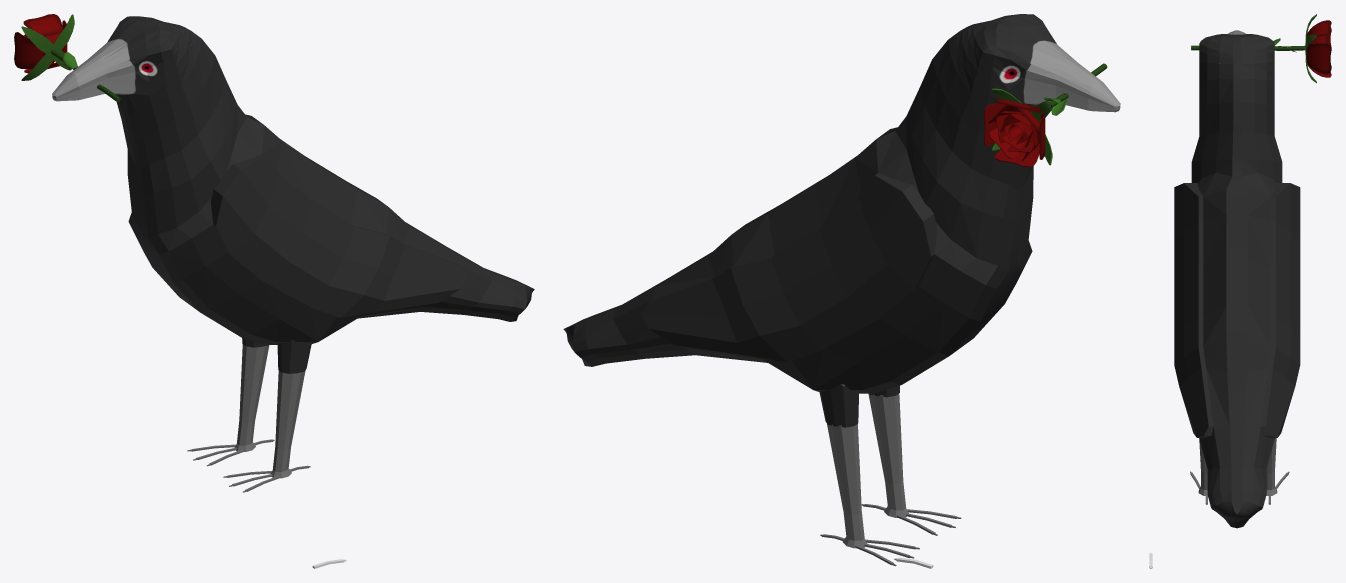
Rendered from crowvariant1.fbx.
The picture shows the model from 3 angles, left to right: view 1: azimuth 30°, elevation 25°; view 2: azimuth 150°, elevation 25°; view 3: azimuth 270°, elevation 25°; orthographic projection. The views are drawn at different scales.
Visible parts, largest first — view 1: Plane020, Plane022, Plane021, Box080, Box107; view 2: Plane020, Plane022, Plane021, Box080; view 3: Plane020, Plane022, Box080, Plane021.
Part boxes in pixels (<box>): Plane020: <box>52,16,534,344</box>; Plane022: <box>210,154,466,317</box>; Plane021: <box>187,338,311,492</box>; Box080: <box>14,14,67,73</box>; Box107: <box>21,14,74,80</box>; Plane020: <box>563,14,1120,393</box>; Plane022: <box>642,173,937,362</box>; Plane021: <box>819,384,961,566</box>; Box080: <box>983,98,1045,167</box>; Plane020: <box>1191,30,1282,528</box>; Plane022: <box>1174,183,1300,437</box>; Box080: <box>1306,20,1331,77</box>; Plane021: <box>1190,438,1289,504</box>.
Size of the model in its own units: 15.6 by 16.62 by 5.83.
